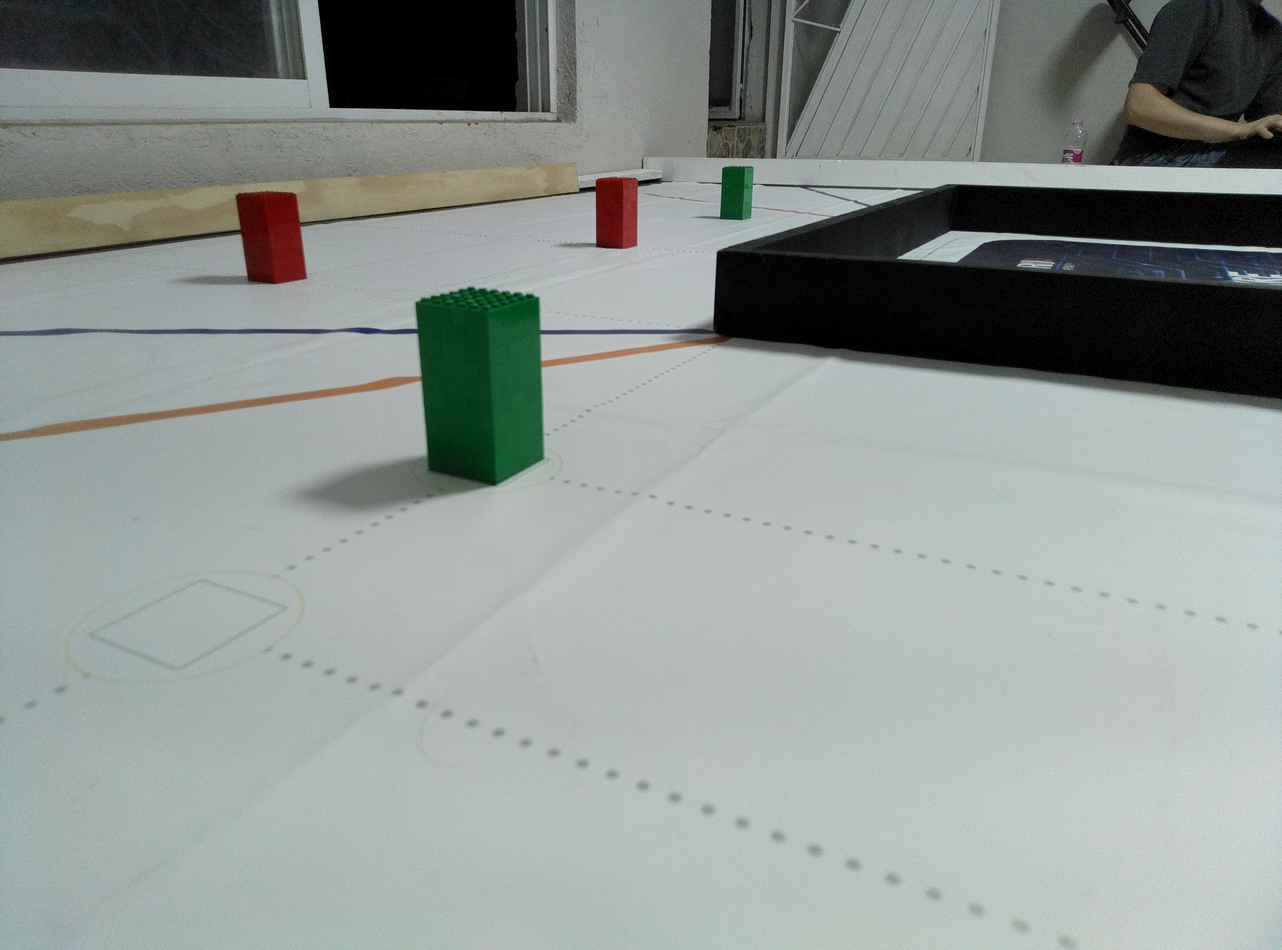greenbox: (416, 284, 545, 487), (720, 165, 754, 220)
redbox: (235, 191, 308, 285), (596, 176, 637, 249)
